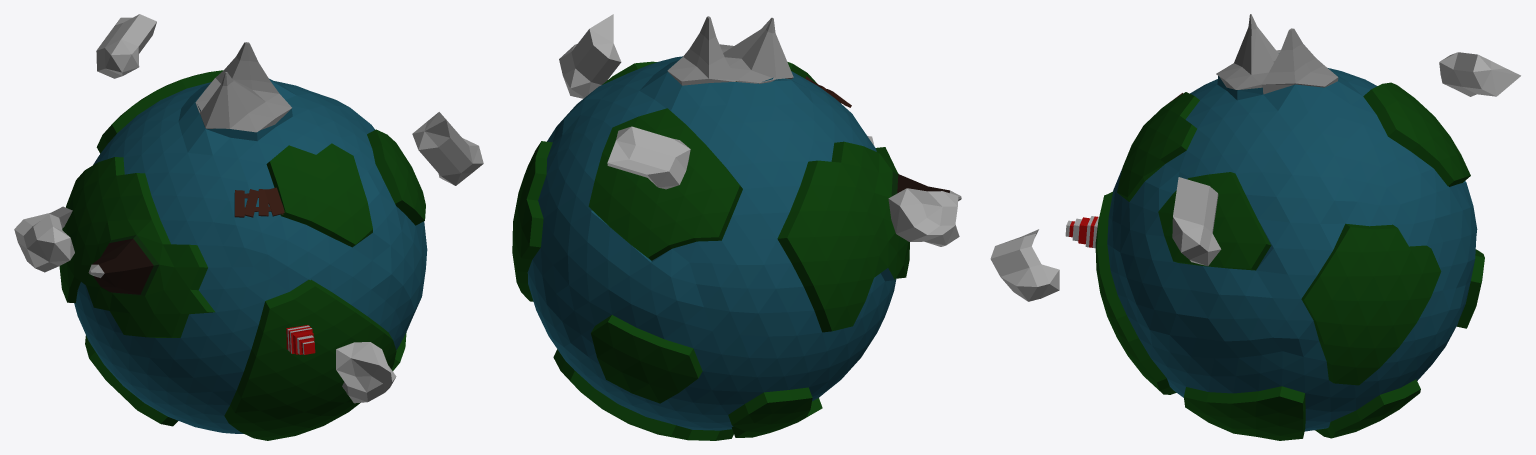
Rendered from earth.obj.
The picture shows the model from 3 angles, left to right: view 1: azimuth 30°, elevation 25°; view 2: azimuth 150°, elevation 25°; view 3: azimuth 270°, elevation 25°; orthographic projection. The views are drawn at different scales.
Visible parts, largest first — view 1: Icosphere, Icosphere.004_Icosphere.005, Icosphere.003_Icosphere.004, Icosphere.002_Icosphere.003, Icosphere.001_Icosphere.002, Cube_Cube.003, Cube.001_Cube.004; view 2: Icosphere, Icosphere.001_Icosphere.002, Icosphere.002_Icosphere.003, Icosphere.004_Icosphere.005; view 3: Icosphere, Icosphere.004_Icosphere.005, Icosphere.003_Icosphere.004, Icosphere.001_Icosphere.002, Cube.001_Cube.004.
Part boxes in pixels (x1=…): Icosphere: x1=59, y1=42, x2=427, y2=440; Icosphere.004_Icosphere.005: x1=412, y1=112, x2=483, y2=185; Icosphere.003_Icosphere.004: x1=336, y1=342, x2=396, y2=403; Icosphere.002_Icosphere.003: x1=14, y1=206, x2=74, y2=272; Icosphere.001_Icosphere.002: x1=96, y1=14, x2=156, y2=78; Cube_Cube.003: x1=234, y1=187, x2=284, y2=217; Cube.001_Cube.004: x1=286, y1=325, x2=315, y2=354; Icosphere: x1=512, y1=16, x2=961, y2=440; Icosphere.001_Icosphere.002: x1=607, y1=126, x2=690, y2=189; Icosphere.002_Icosphere.003: x1=888, y1=188, x2=959, y2=246; Icosphere.004_Icosphere.005: x1=559, y1=14, x2=621, y2=98; Icosphere: x1=1095, y1=14, x2=1484, y2=440; Icosphere.004_Icosphere.005: x1=1172, y1=177, x2=1221, y2=265; Icosphere.003_Icosphere.004: x1=990, y1=229, x2=1059, y2=301; Icosphere.001_Icosphere.002: x1=1439, y1=52, x2=1520, y2=96; Cube.001_Cube.004: x1=1065, y1=216, x2=1098, y2=248.
Size of the model in its own units: 1.62 by 1.43 by 1.74.
